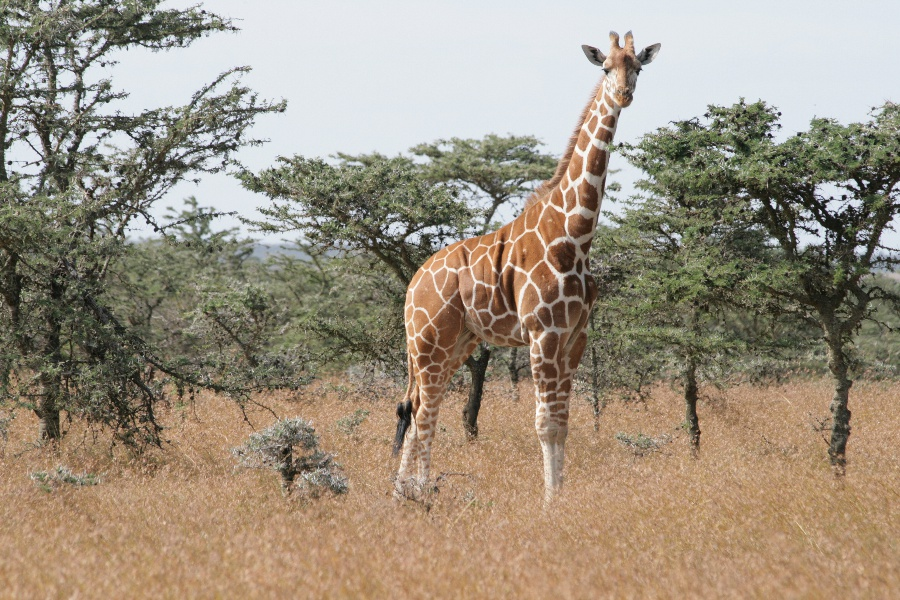giraffe: (388, 21, 665, 504)
